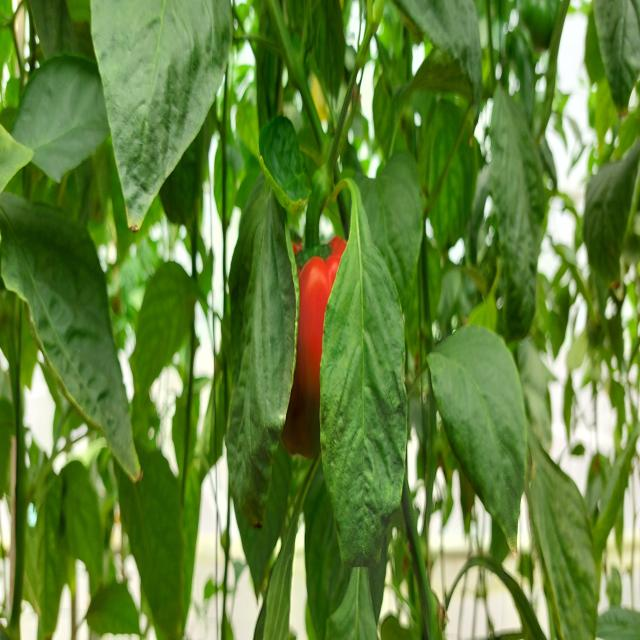Red-Ready-to-Harvest: (247, 203, 378, 467)
